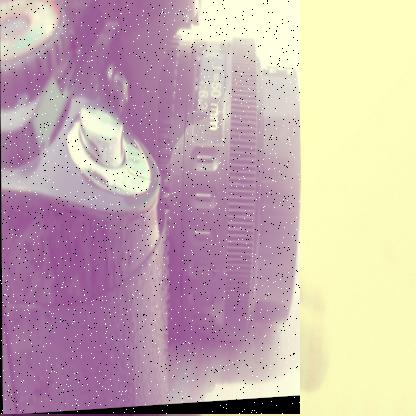Camera: (1, 1, 302, 416)
